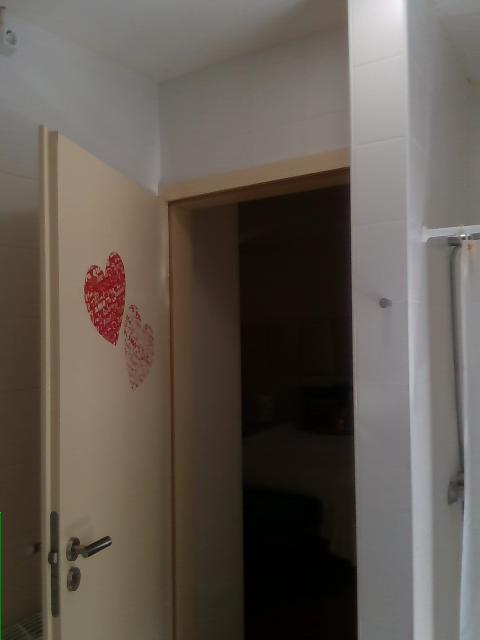open_door: (96, 145, 357, 639)
